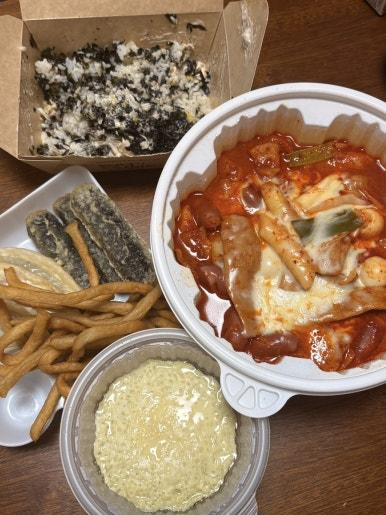Lunch Box: (150, 84, 385, 417), (0, 166, 178, 446), (0, 0, 267, 172), (59, 329, 269, 514)
